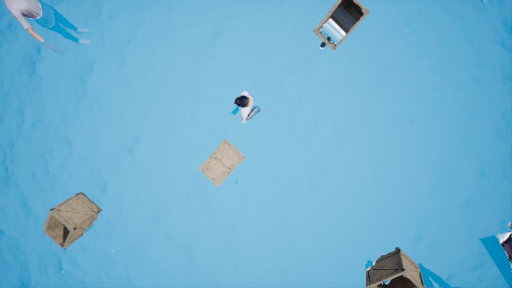person: (232, 92, 265, 123)
